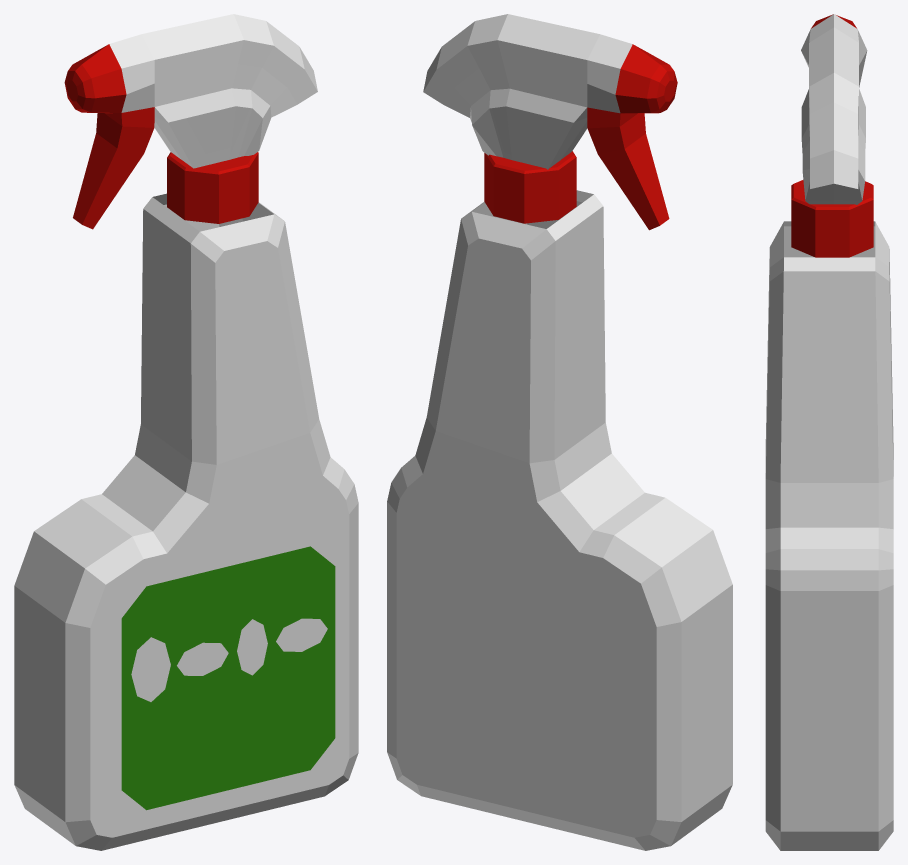
Rendered from Ma_Oven_Cleaner_1.fbx.
The picture shows the model from 3 angles, left to right: view 1: azimuth 30°, elevation 25°; view 2: azimuth 150°, elevation 25°; view 3: azimuth 270°, elevation 25°; orthographic projection. The views are drawn at different scales.
Parts seen in each view (by area): view 1: Ma_Oven_Cleaner_1; view 2: Ma_Oven_Cleaner_1; view 3: Ma_Oven_Cleaner_1.
Boxes of the visible parts, x1,y1,x2,y2 form: Ma_Oven_Cleaner_1: [14, 14, 358, 850]; Ma_Oven_Cleaner_1: [387, 14, 732, 850]; Ma_Oven_Cleaner_1: [765, 14, 893, 850].
Bounding box in the file's own units: 86.02 × 34.91 × 219.
